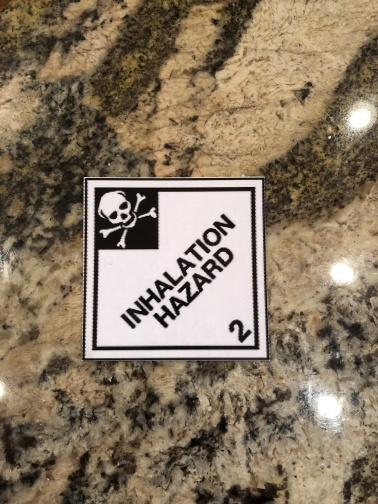InhalationHazard: (80, 175, 270, 361)
